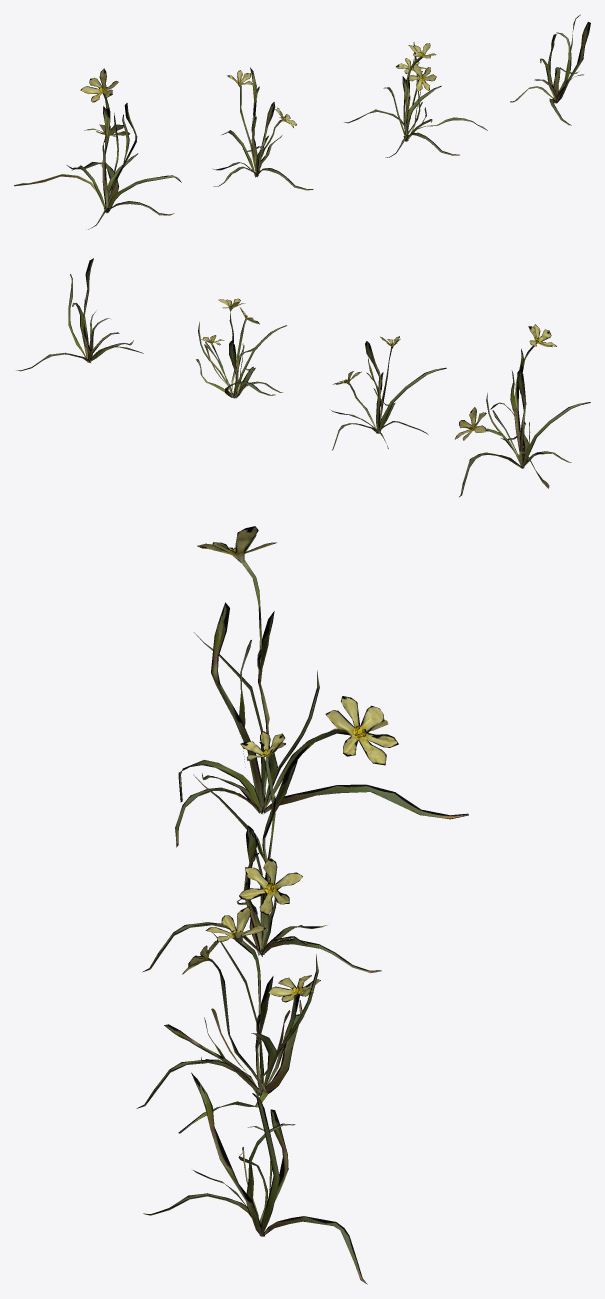
Rendered from empodium.glb.
3 renders of one model, top to bottom at view 1: azimuth 30°, elevation 25°; view 2: azimuth 150°, elevation 25°; view 3: azimuth 270°, elevation 25°, orthographic. The views are drawn at different scales.
Visible parts, largest first — view 1: flower_empodium_a_LOD0, flower_empodium_c_LOD0, flower_empodium_b_LOD0, flower_empodium_d_LOD0; view 2: flower_empodium_a_LOD0, flower_empodium_c_LOD0, flower_empodium_b_LOD0, flower_empodium_d_LOD0; view 3: flower_empodium_a_LOD0, flower_empodium_c_LOD0, flower_empodium_b_LOD0, flower_empodium_d_LOD0.
Boxes of the visible parts, bbox=[...] form: flower_empodium_a_LOD0: bbox=[14, 68, 181, 229]; flower_empodium_c_LOD0: bbox=[344, 42, 487, 157]; flower_empodium_b_LOD0: bbox=[212, 67, 313, 190]; flower_empodium_d_LOD0: bbox=[510, 14, 590, 125]; flower_empodium_a_LOD0: bbox=[455, 324, 590, 496]; flower_empodium_c_LOD0: bbox=[196, 298, 286, 398]; flower_empodium_b_LOD0: bbox=[331, 336, 446, 450]; flower_empodium_d_LOD0: bbox=[16, 258, 143, 371]; flower_empodium_a_LOD0: bbox=[175, 526, 468, 847]; flower_empodium_c_LOD0: bbox=[136, 906, 320, 1133]; flower_empodium_b_LOD0: bbox=[142, 731, 381, 972]; flower_empodium_d_LOD0: bbox=[143, 1072, 367, 1284].
Size of the model in its own units: 1.06 by 0.2683 by 0.2838.
Materials: 1 (1 with a texture image).
